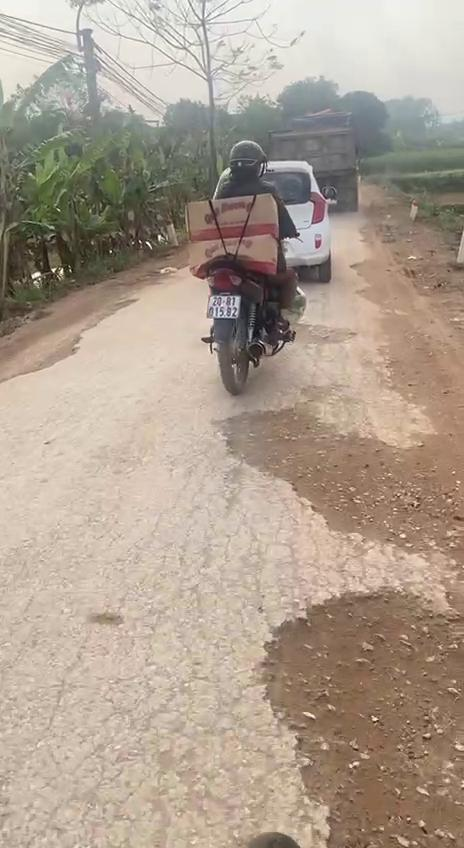pothole: (256, 584, 464, 848), (210, 400, 464, 575), (0, 331, 84, 382), (279, 318, 352, 350)
